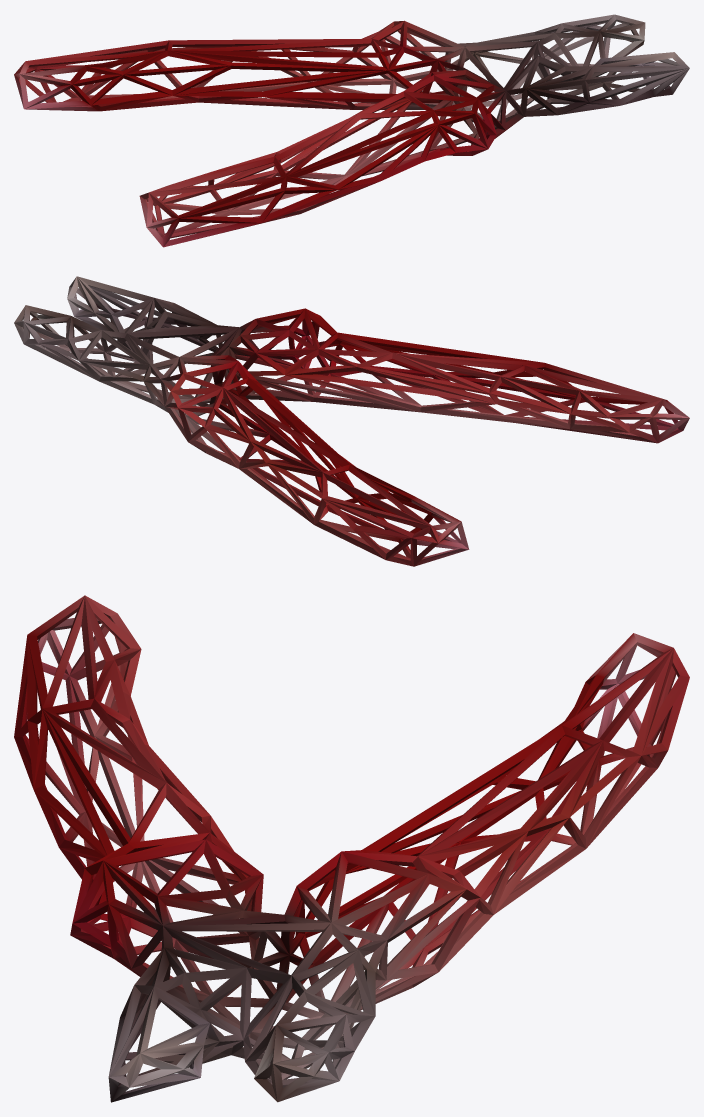
Rendered from zange.dae.
3 renders of one model, top to bottom at view 1: azimuth 30°, elevation 25°; view 2: azimuth 150°, elevation 25°; view 3: azimuth 270°, elevation 25°, orthographic. The views are drawn at different scales.
Visible parts, largest first — view 1: _60302_Zange; view 2: _60302_Zange; view 3: _60302_Zange.
Boxes of the visible parts, left/top/right/bottom form: _60302_Zange: left=14, top=14, right=689, bottom=247; _60302_Zange: left=14, top=276, right=689, bottom=566; _60302_Zange: left=14, top=595, right=689, bottom=1102.
Size of the model in its own units: 54.82 by 33.18 by 7.5.
